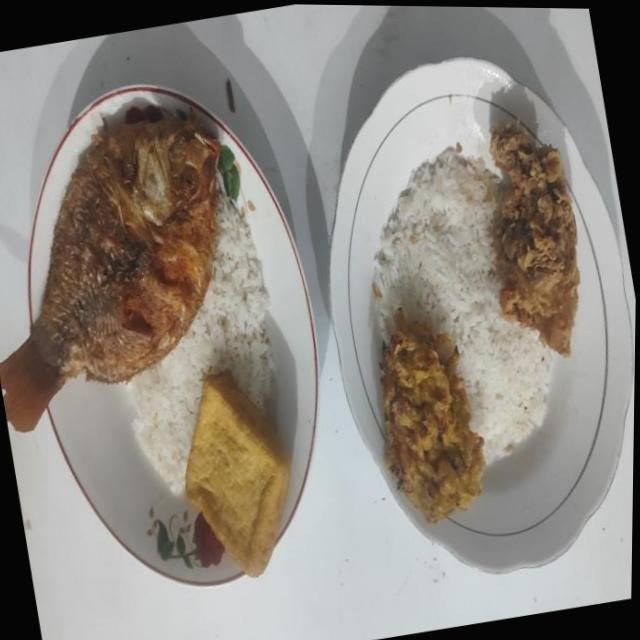ikan_mujair: (0, 117, 222, 431)
nasi_putih: (372, 148, 552, 461), (126, 194, 274, 493)
tahu_goreng: (185, 374, 291, 576)
